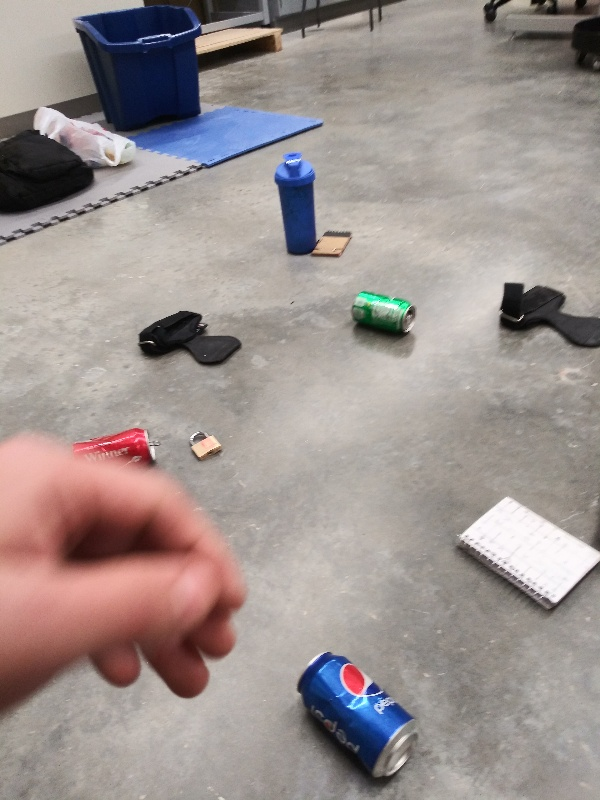can: (296, 648, 427, 788), (61, 422, 161, 485), (350, 288, 418, 342)
